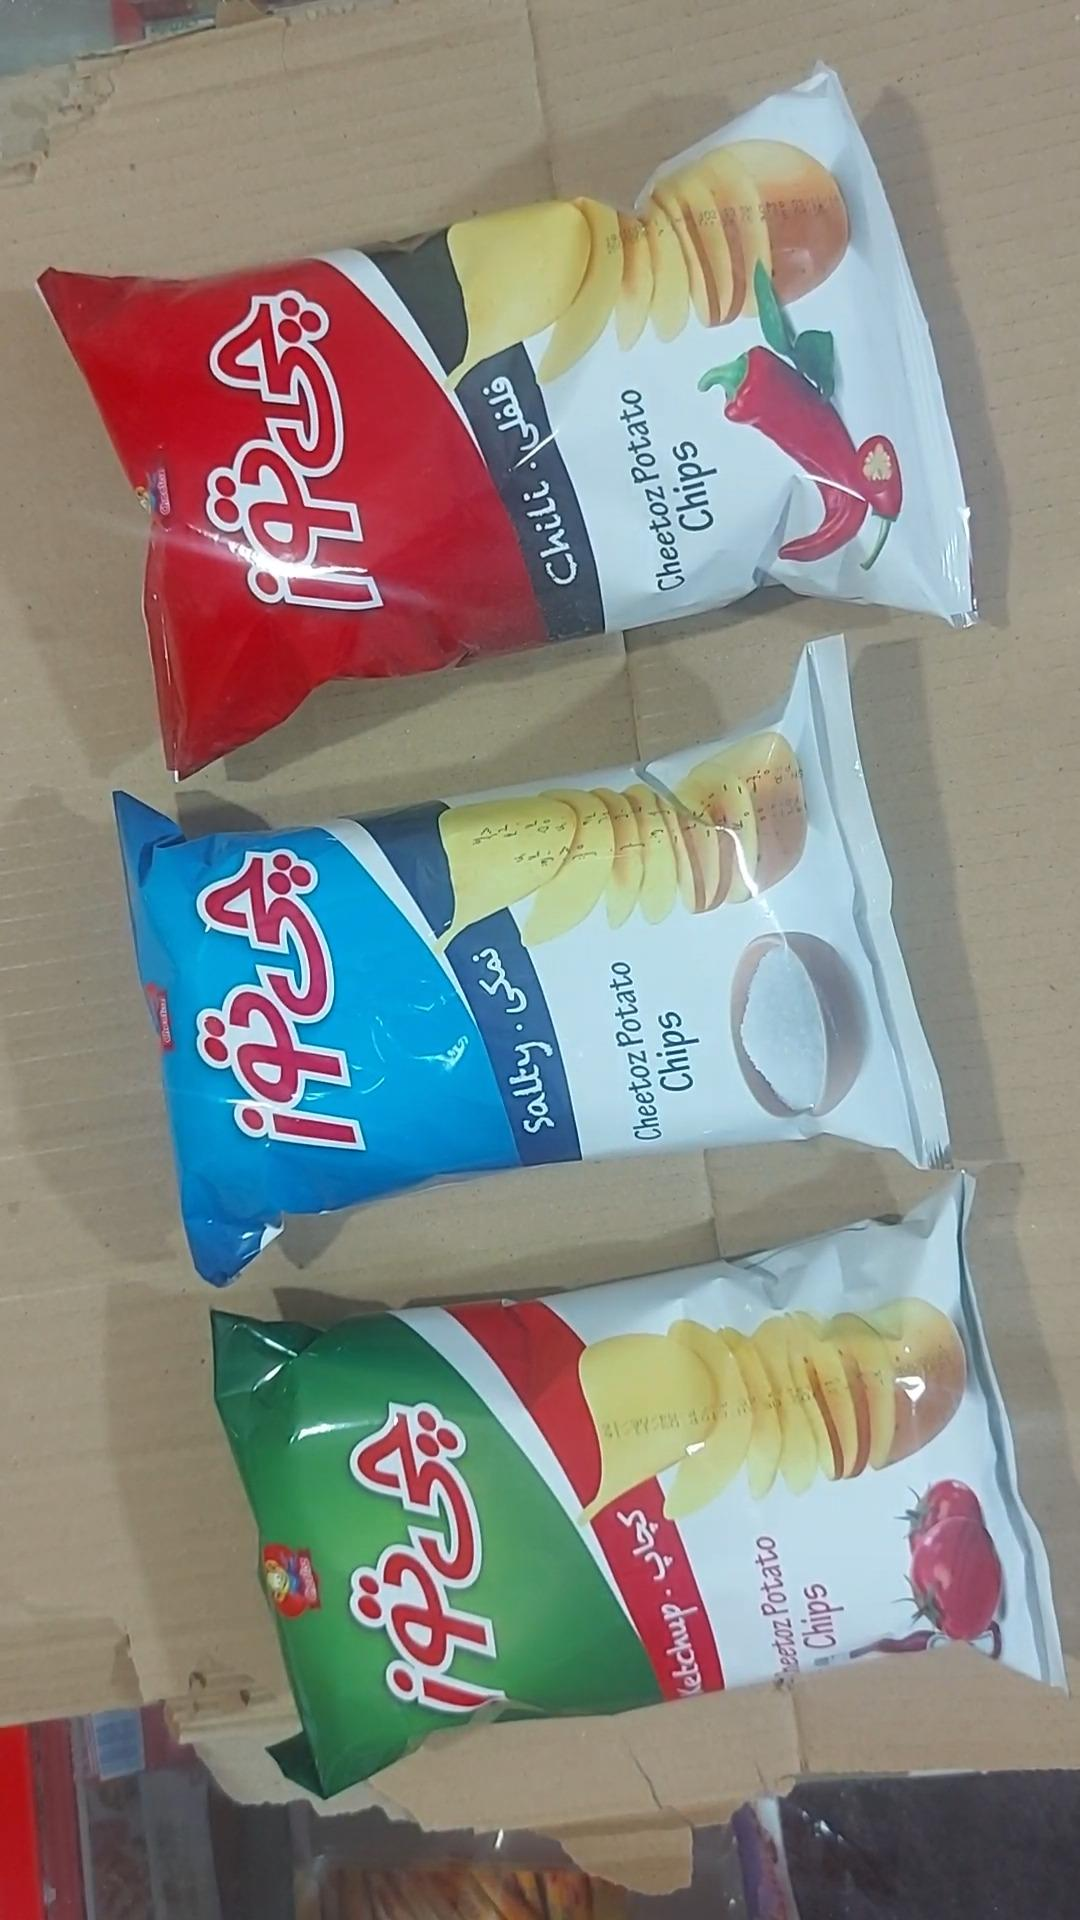Cheetoz chili chips: (36, 62, 976, 781)
Cheetoz ketchup chips: (208, 1171, 1069, 1803)
Cheetoz salty chips: (113, 636, 957, 1288)
